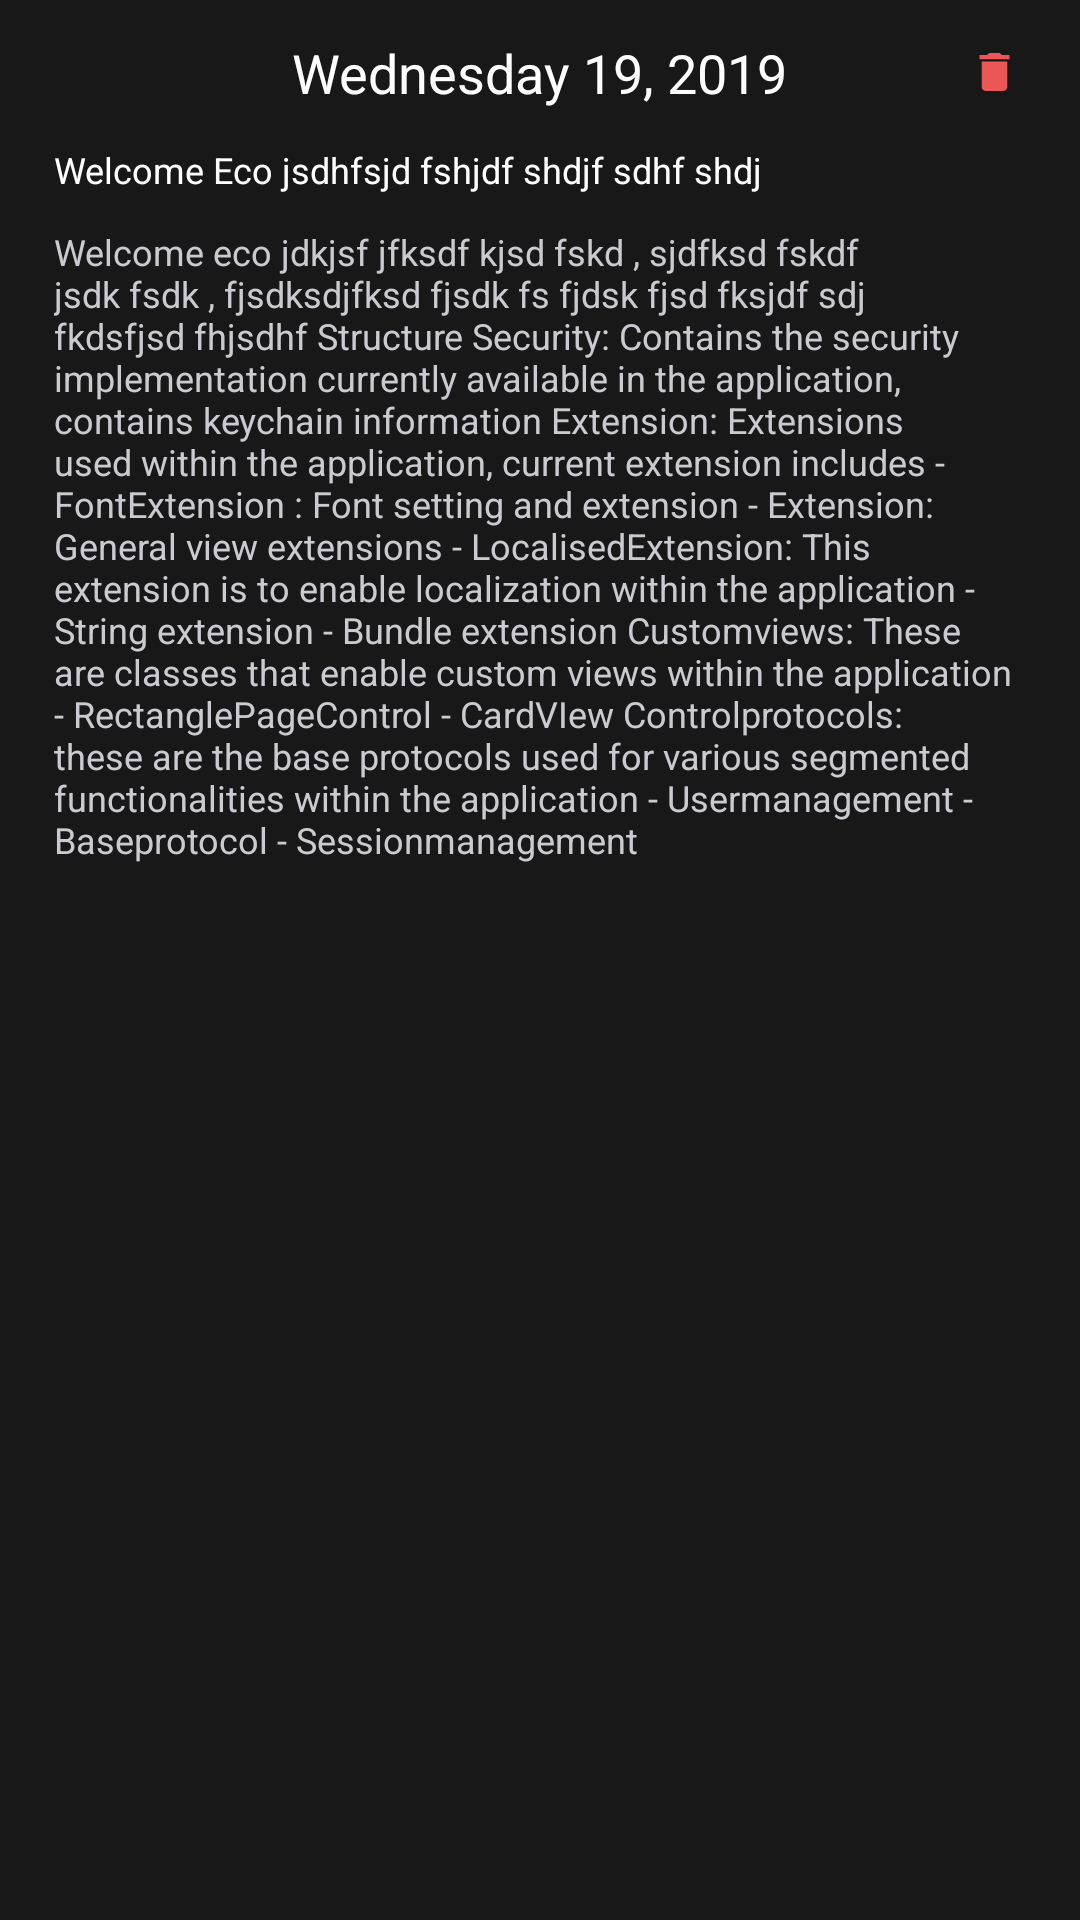

Icon bounding boxes for this 1080px x 1920px phone screenshot, format [x1=x1, y1=y1, x2=x2, y2=y2]:
delete: [x1=979, y1=53, x2=1010, y2=91]
